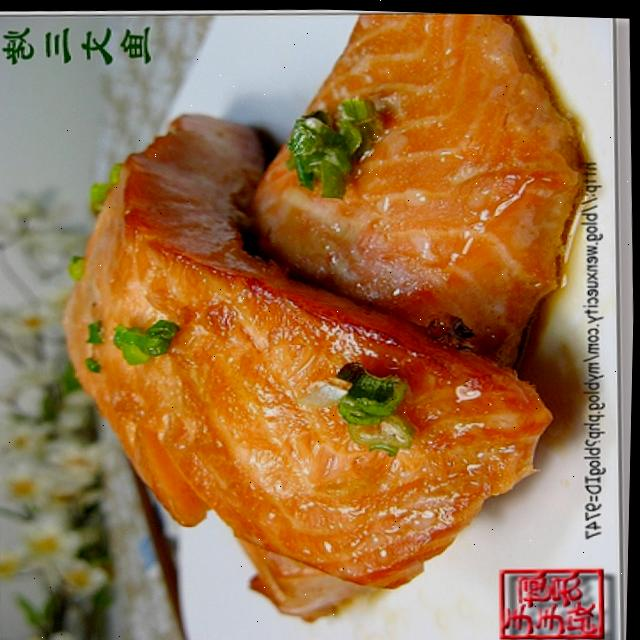熟制海鲜: (15, 33, 588, 630)
